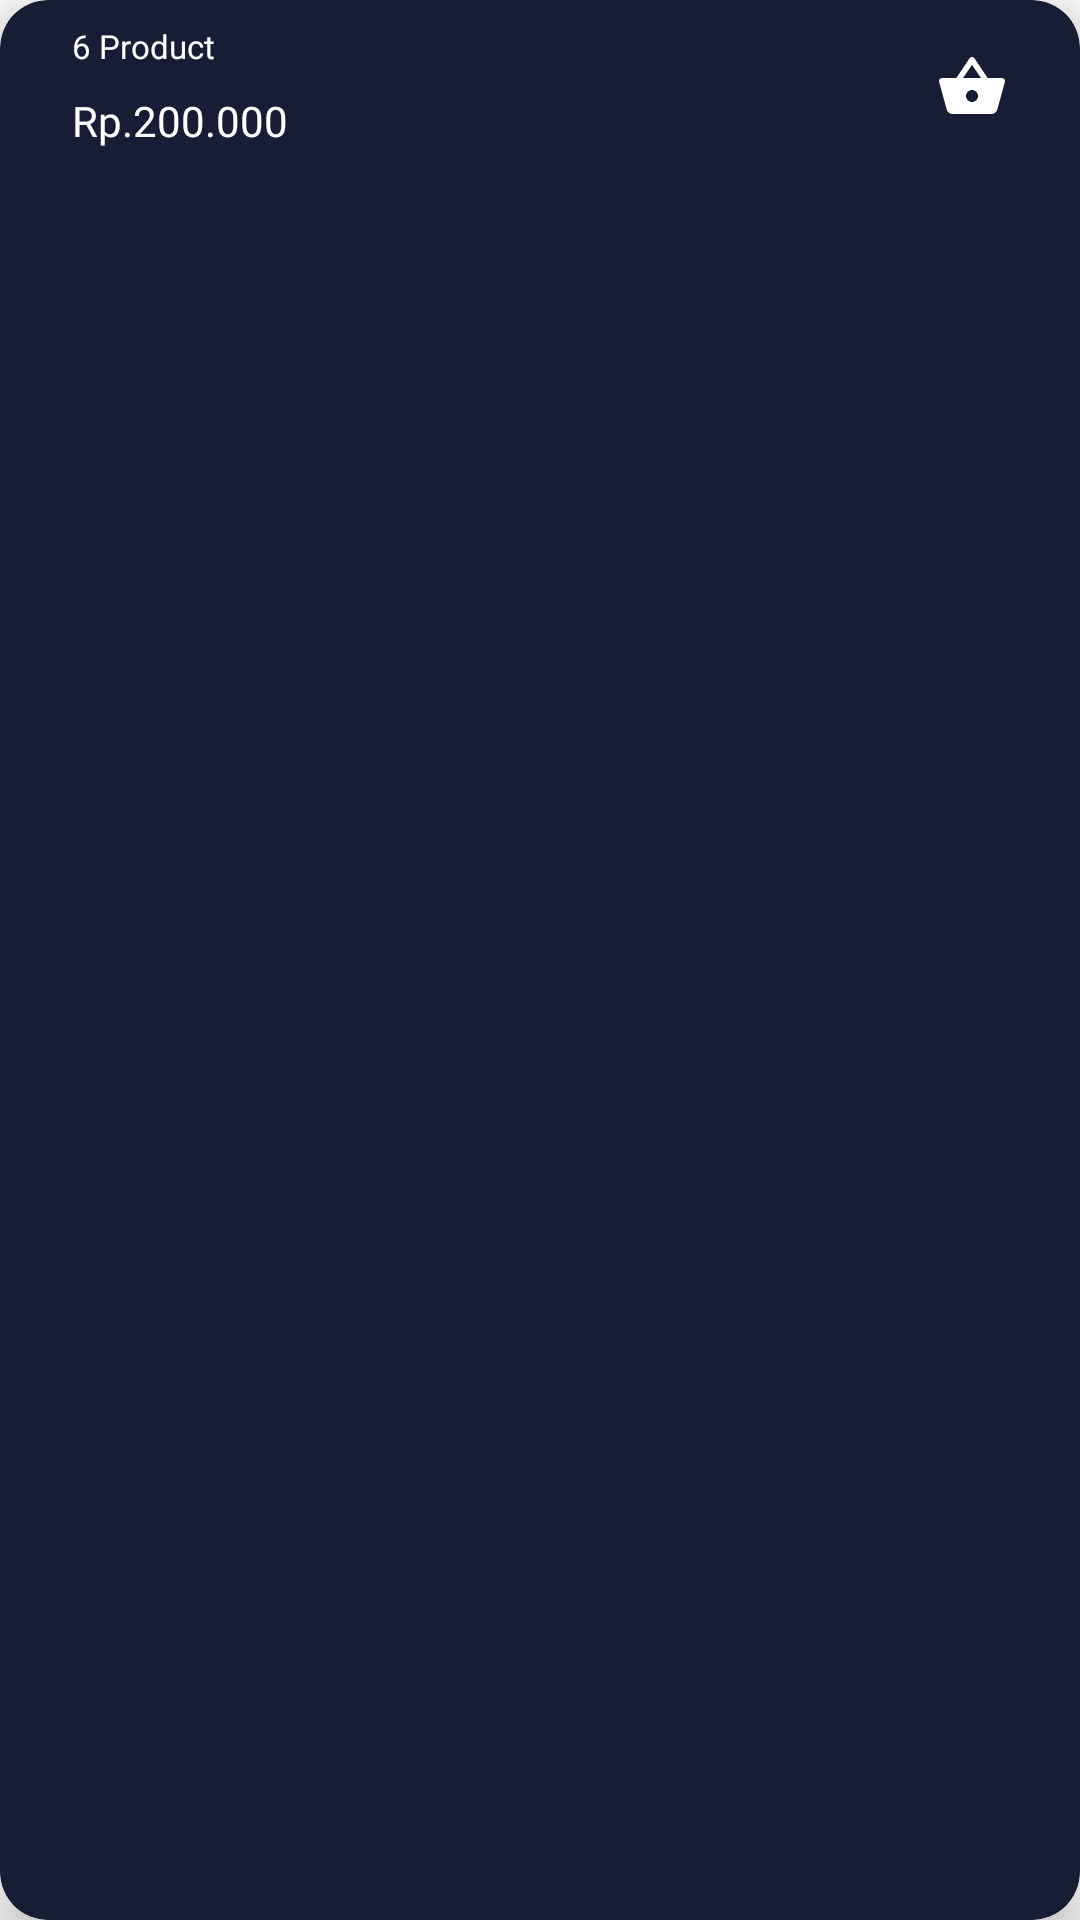

Named icons in this screenshot (1080*1920) and their bounding boxes, (x1, y1, x2, y2):
keranjang: (939, 57, 1005, 114)
